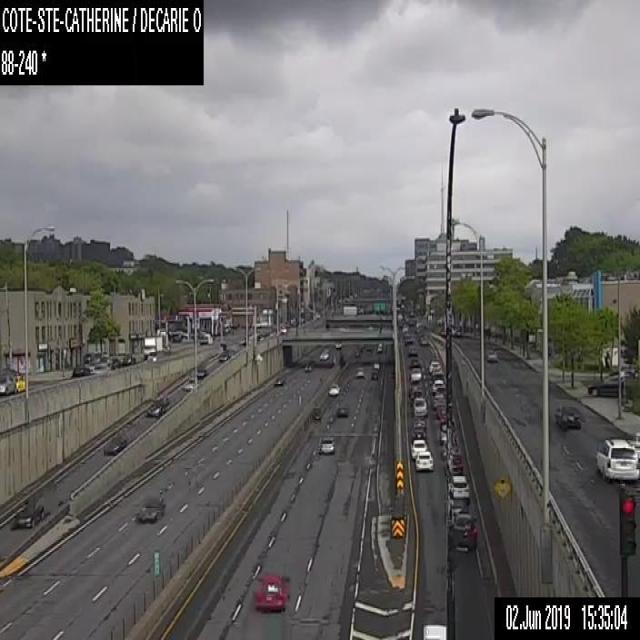vehicle: (595, 437, 639, 480), (255, 574, 287, 611), (11, 497, 44, 528), (587, 373, 623, 397), (452, 513, 477, 547), (136, 498, 164, 524), (554, 404, 581, 429), (101, 435, 128, 455), (452, 475, 469, 503), (422, 622, 446, 638), (415, 450, 433, 471), (144, 335, 161, 357), (444, 453, 462, 472), (411, 438, 427, 458), (0, 374, 15, 394), (319, 436, 334, 455), (414, 397, 426, 416), (146, 402, 162, 416), (73, 363, 89, 376), (14, 375, 25, 391), (334, 404, 347, 417), (410, 385, 422, 399), (119, 354, 135, 364), (328, 382, 340, 395), (412, 428, 425, 440), (184, 376, 194, 391), (196, 367, 208, 379), (94, 362, 107, 373), (428, 361, 439, 374), (408, 358, 422, 368), (432, 379, 442, 393), (433, 394, 444, 406), (410, 368, 421, 380), (199, 334, 212, 344), (451, 325, 462, 336), (486, 349, 496, 361), (407, 344, 417, 356), (413, 418, 425, 428), (440, 409, 446, 427), (312, 406, 320, 419), (319, 350, 329, 360), (218, 352, 228, 362), (355, 367, 364, 378), (440, 424, 446, 440), (146, 351, 156, 360), (273, 377, 284, 385), (304, 361, 312, 371), (376, 342, 383, 353), (420, 336, 428, 344), (442, 440, 446, 456), (89, 361, 94, 372), (370, 372, 377, 379), (374, 362, 378, 368)
